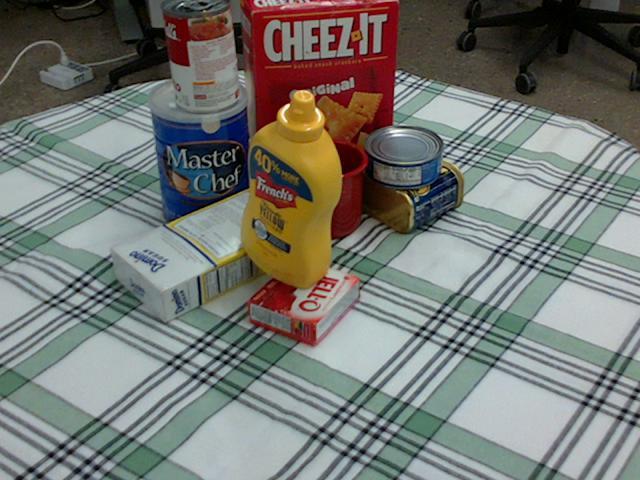cracker_box: (241, 0, 398, 190)
gelatin_box: (248, 256, 360, 345)
master_chef_can: (146, 75, 252, 233)
mug: (281, 136, 368, 238)
mustard_bottle: (240, 89, 341, 288)
potted_meat_can: (347, 138, 461, 229)
sugar_box: (109, 186, 303, 321)
tomato_soup_can: (162, 0, 238, 111)
tuna_fish_can: (363, 126, 442, 188)
